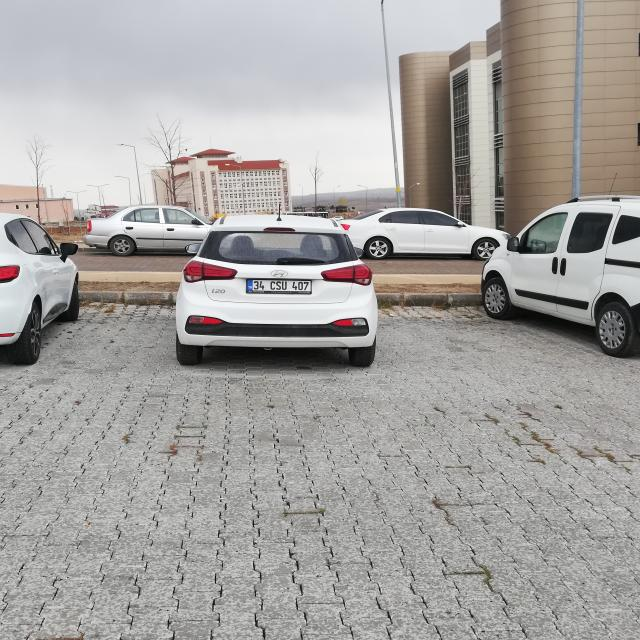license_plate: (246, 280, 312, 292)
